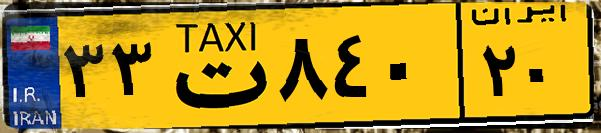0: (385, 28, 445, 110), (525, 38, 570, 115)
2: (475, 38, 525, 113)
3: (57, 26, 110, 100), (110, 28, 158, 98)
4: (330, 28, 385, 110)
8: (270, 28, 330, 110)
ت: (158, 12, 270, 120)
